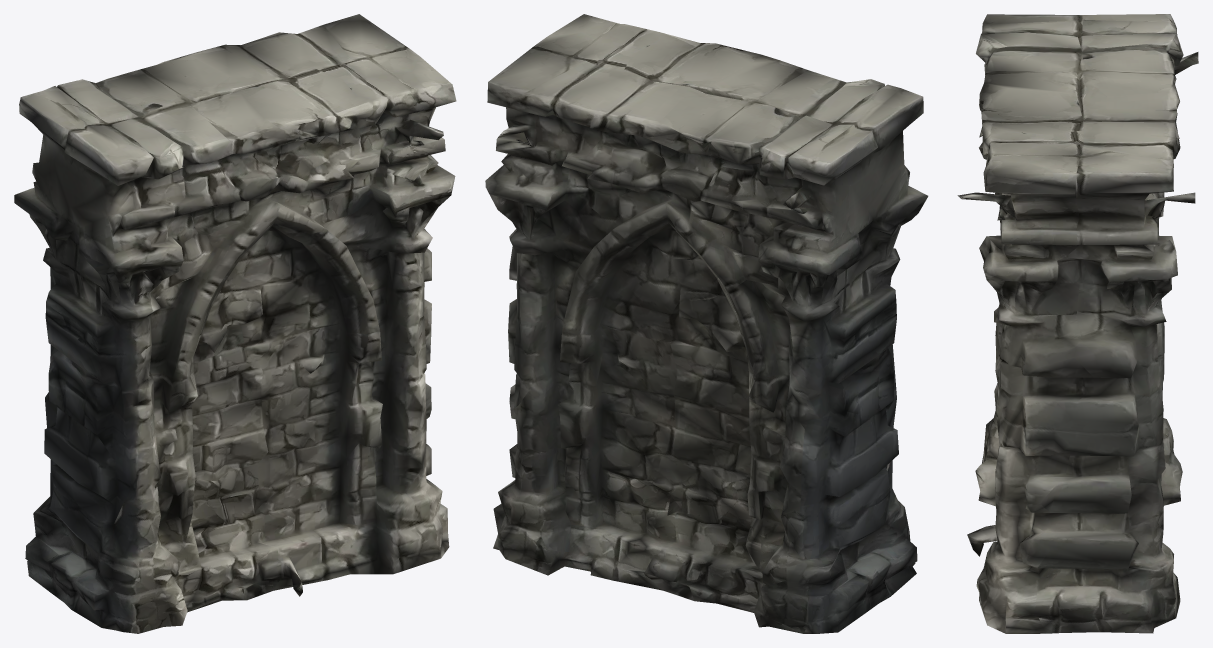
The model's file is dwall.glb.
The picture shows the model from 3 angles, left to right: view 1: azimuth 30°, elevation 25°; view 2: azimuth 150°, elevation 25°; view 3: azimuth 270°, elevation 25°; orthographic projection. The views are drawn at different scales.
Visible parts, largest first — view 1: tripo_node_fbb90079-8ac5-4be5-a325-a19d2661e943; view 2: tripo_node_fbb90079-8ac5-4be5-a325-a19d2661e943; view 3: tripo_node_fbb90079-8ac5-4be5-a325-a19d2661e943.
Part boxes in pixels (<box>): tripo_node_fbb90079-8ac5-4be5-a325-a19d2661e943: <box>14,14,456,633</box>; tripo_node_fbb90079-8ac5-4be5-a325-a19d2661e943: <box>485,14,928,633</box>; tripo_node_fbb90079-8ac5-4be5-a325-a19d2661e943: <box>957,14,1198,633</box>.
Bounding box in the file's own units: 0.7838 × 0.9992 × 0.4741.
1 material, 1 textured.
